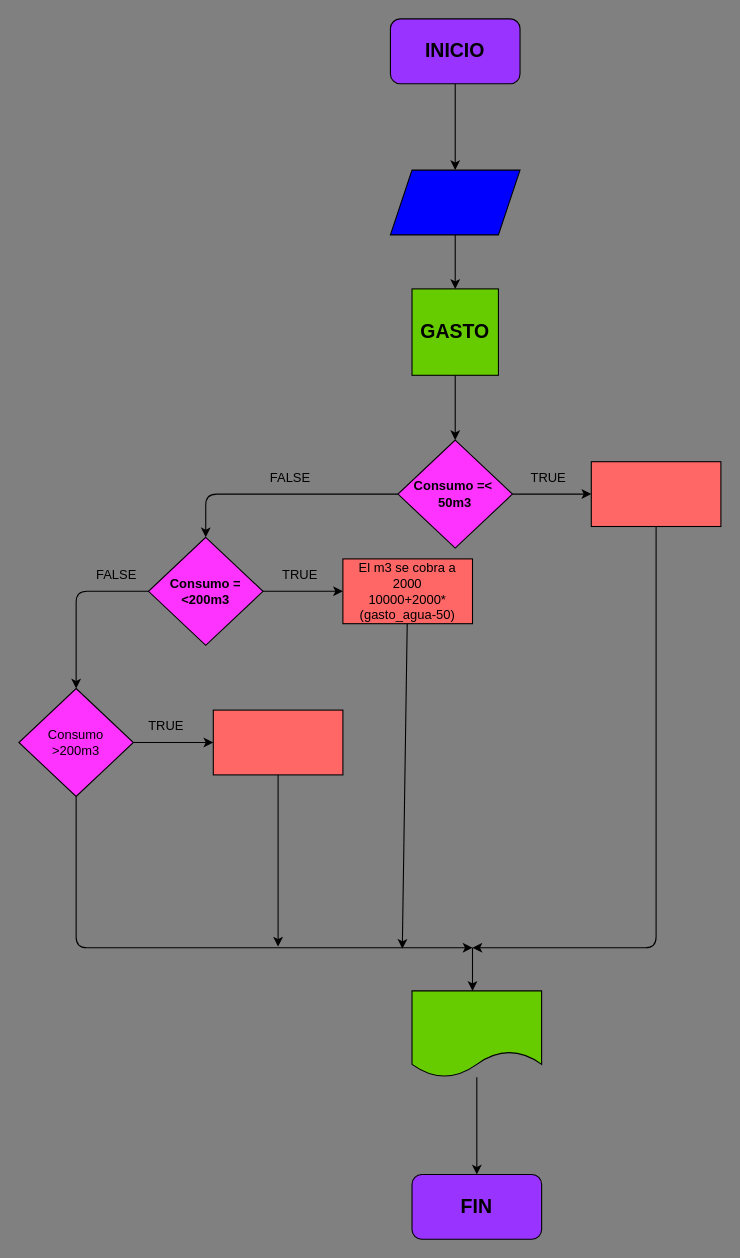
This 740x1258 diagram has some shape labels left out. Here are the shapes that lost their labels. From the top down, the centre of each, then its label:
At point 454,202: "Cuota_fija = 10000".
At point 655,493: "El valor a pagar 10000".
At point 277,742: "Se cobra el m3 a $3000 10000+3000*(gasto_agua-50)".
At point 476,1033: "COBRO".
